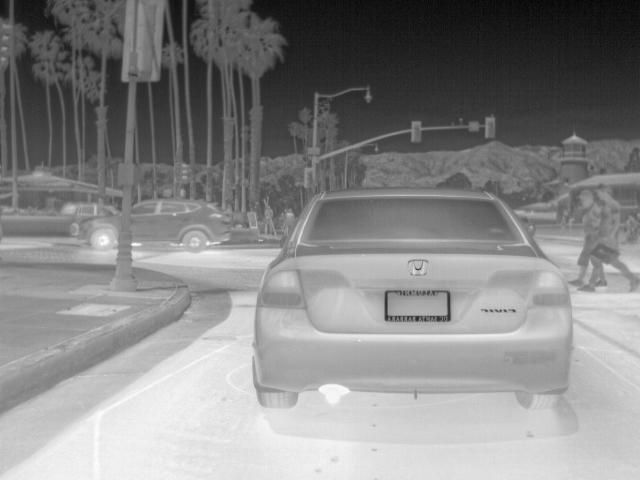car: (252, 183, 576, 412), (136, 197, 232, 255), (80, 214, 118, 250), (60, 202, 119, 220)
person: (579, 183, 640, 294), (567, 188, 604, 286), (625, 213, 639, 230)
